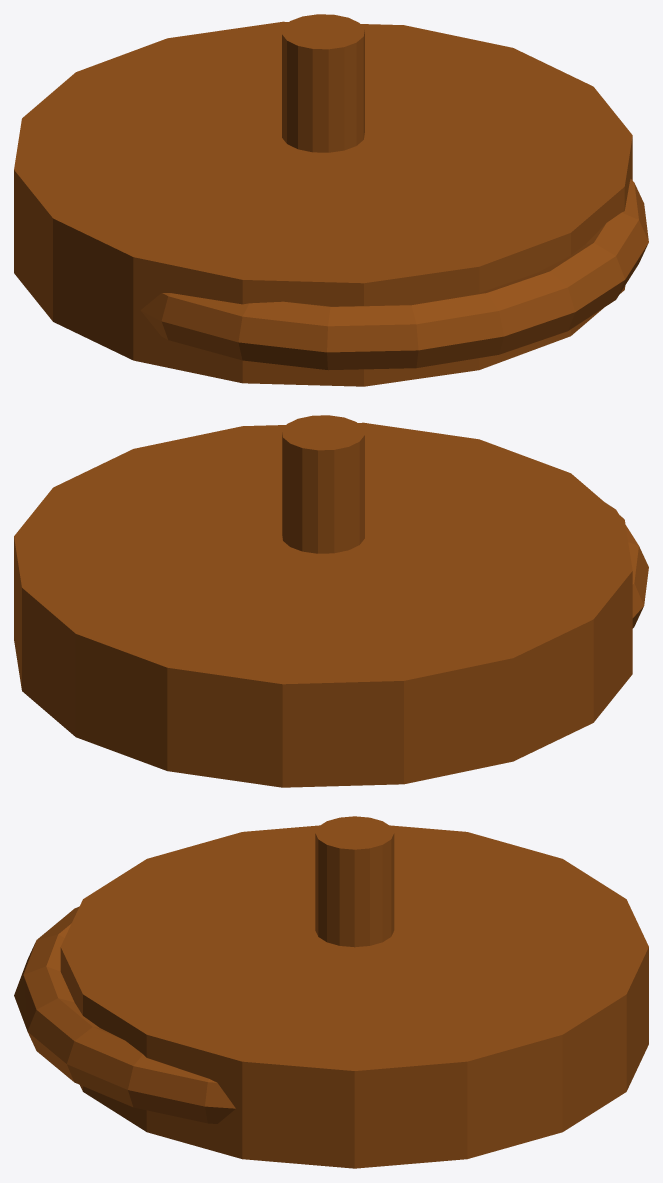
3 views of the same model, one above another, from view 1: azimuth 30°, elevation 25°; view 2: azimuth 150°, elevation 25°; view 3: azimuth 270°, elevation 25° (orthographic). The views are drawn at different scales.
Visible parts, largest first — view 1: brass; view 2: brass; view 3: brass.
Part boxes in pixels (x1,y1,x2,y2): brass: (14,14,648,386); brass: (14,415,648,787); brass: (14,816,648,1168).
Bounding box in the file's own units: 1.64 × 0.65 × 1.77.
